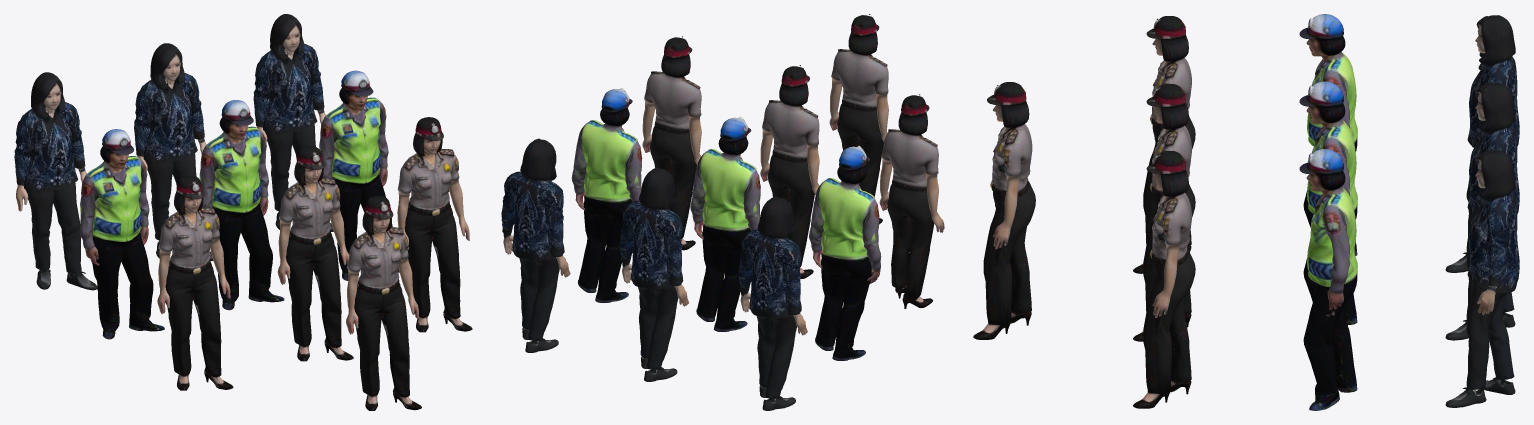
Rendered from parade_ina_idle.glb.
3 views of the same model, side by side, from view 1: azimuth 30°, elevation 25°; view 2: azimuth 150°, elevation 25°; view 3: azimuth 270°, elevation 25° (orthographic). The views are drawn at different scales.
Visible parts, largest first — view 1: tripo_node_3a622430, tripo_node_08f21640-4b2e-4dcf-8c3c-9facbb47a148.001, tripo_node_8e05bf5d.003, tripo_node_8e05bf5d, tripo_node_8e05bf5d.001, tripo_node_3a622430.002, tripo_node_8e05bf5d.002, tripo_node_08f21640-4b2e-4dcf-8c3c-9facbb47a148, tripo_node_08f21640-4b2e-4dcf-8c3c-9facbb47a148.002, tripo_node_3a622430.001; view 2: tripo_node_3a622430, tripo_node_3a622430.001, tripo_node_3a622430.002, tripo_node_08f21640-4b2e-4dcf-8c3c-9facbb47a148, tripo_node_08f21640-4b2e-4dcf-8c3c-9facbb47a148.001, tripo_node_08f21640-4b2e-4dcf-8c3c-9facbb47a148.002, tripo_node_8e05bf5d.003, tripo_node_8e05bf5d.002, tripo_node_8e05bf5d.001, tripo_node_8e05bf5d; view 3: tripo_node_3a622430.001, tripo_node_08f21640-4b2e-4dcf-8c3c-9facbb47a148, tripo_node_8e05bf5d, tripo_node_8e05bf5d.002, tripo_node_08f21640-4b2e-4dcf-8c3c-9facbb47a148.002, tripo_node_3a622430.002, tripo_node_08f21640-4b2e-4dcf-8c3c-9facbb47a148.001, tripo_node_8e05bf5d.001, tripo_node_3a622430, tripo_node_8e05bf5d.003.
Boxes of the visible parts, box(x1,y1,x2,y2) form: tripo_node_3a622430: box(79, 129, 164, 339); tripo_node_08f21640-4b2e-4dcf-8c3c-9facbb47a148.001: box(14, 72, 97, 290); tripo_node_8e05bf5d.003: box(157, 175, 233, 390); tripo_node_8e05bf5d: box(346, 195, 421, 410); tripo_node_8e05bf5d.001: box(277, 146, 353, 361); tripo_node_3a622430.002: box(199, 100, 284, 310); tripo_node_8e05bf5d.002: box(397, 117, 472, 332); tripo_node_08f21640-4b2e-4dcf-8c3c-9facbb47a148: box(253, 14, 333, 231); tripo_node_08f21640-4b2e-4dcf-8c3c-9facbb47a148.002: box(134, 43, 213, 260); tripo_node_3a622430.001: box(319, 70, 399, 280); tripo_node_3a622430: box(809, 145, 881, 360); tripo_node_3a622430.001: box(571, 88, 642, 302); tripo_node_3a622430.002: box(690, 116, 760, 331); tripo_node_08f21640-4b2e-4dcf-8c3c-9facbb47a148: box(501, 138, 570, 352); tripo_node_08f21640-4b2e-4dcf-8c3c-9facbb47a148.001: box(738, 196, 807, 410); tripo_node_08f21640-4b2e-4dcf-8c3c-9facbb47a148.002: box(620, 167, 688, 381); tripo_node_8e05bf5d.003: box(879, 94, 944, 308); tripo_node_8e05bf5d.002: box(642, 36, 701, 250); tripo_node_8e05bf5d.001: box(760, 65, 819, 278); tripo_node_8e05bf5d: box(829, 14, 888, 223); tripo_node_3a622430.001: box(1299, 149, 1357, 410); tripo_node_08f21640-4b2e-4dcf-8c3c-9facbb47a148: box(1445, 150, 1519, 407); tripo_node_8e05bf5d: box(973, 82, 1035, 339); tripo_node_8e05bf5d.002: box(1133, 151, 1195, 408); tripo_node_08f21640-4b2e-4dcf-8c3c-9facbb47a148.002: box(1445, 82, 1519, 340); tripo_node_3a622430.002: box(1299, 81, 1357, 324); tripo_node_08f21640-4b2e-4dcf-8c3c-9facbb47a148.001: box(1445, 15, 1519, 272); tripo_node_8e05bf5d.001: box(1133, 84, 1195, 341); tripo_node_3a622430: box(1299, 14, 1357, 255); tripo_node_8e05bf5d.003: box(1133, 16, 1195, 273).
Size of the model in its own units: 1.57 by 1 by 2.05.
Materials: 3 (3 with a texture image).
